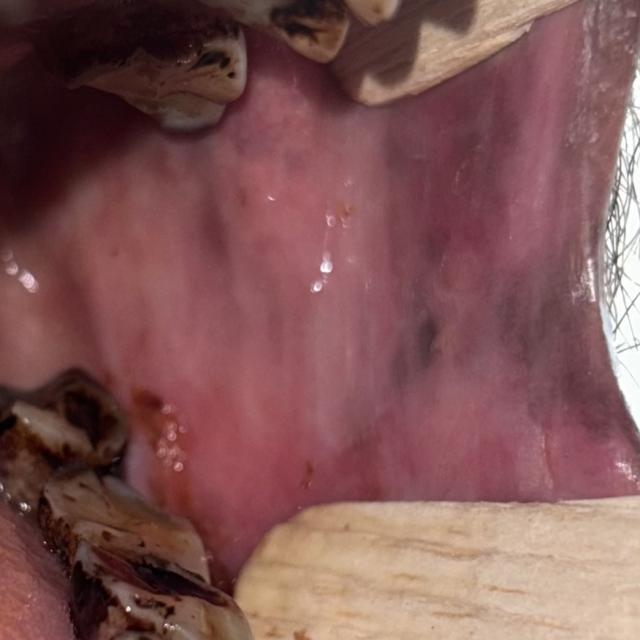leukoplakia-detection: (249, 12, 637, 504), (9, 135, 269, 454)
processing_area: (0, 4, 630, 577)
